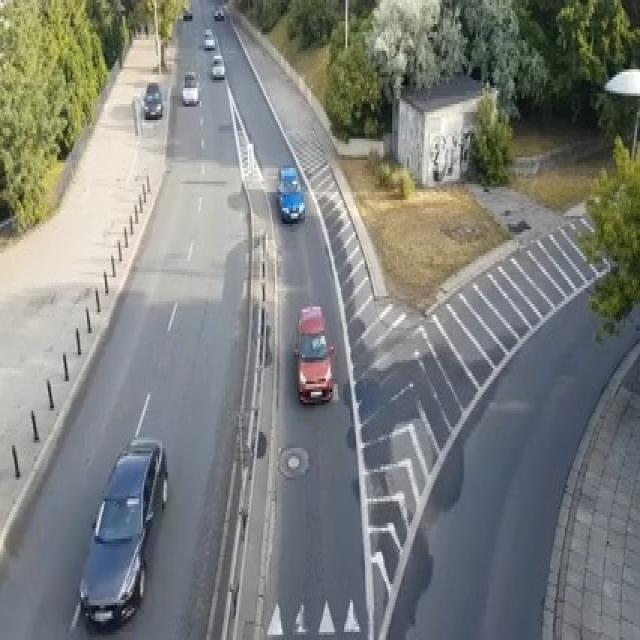car: (78, 437, 168, 627), (293, 304, 333, 403), (275, 163, 305, 221), (141, 80, 162, 117), (182, 72, 198, 104), (210, 54, 224, 78), (203, 27, 215, 48), (213, 5, 224, 19), (182, 8, 192, 19)
